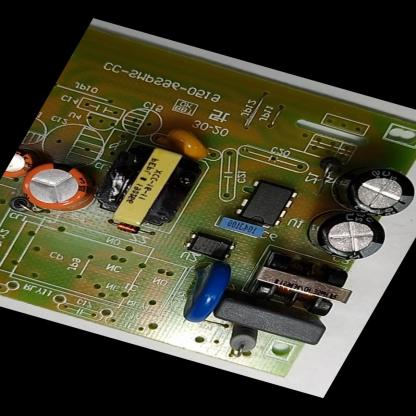Cap1: (15, 158, 92, 211)
Cap2: (3, 152, 33, 179)
Cap3: (299, 207, 395, 268)
Cap4: (324, 159, 415, 221)
MOSFET: (231, 175, 300, 229)
Mov: (166, 257, 239, 326)
Resistor: (218, 326, 260, 359)
Transformer: (88, 139, 203, 231), (244, 250, 366, 320)
